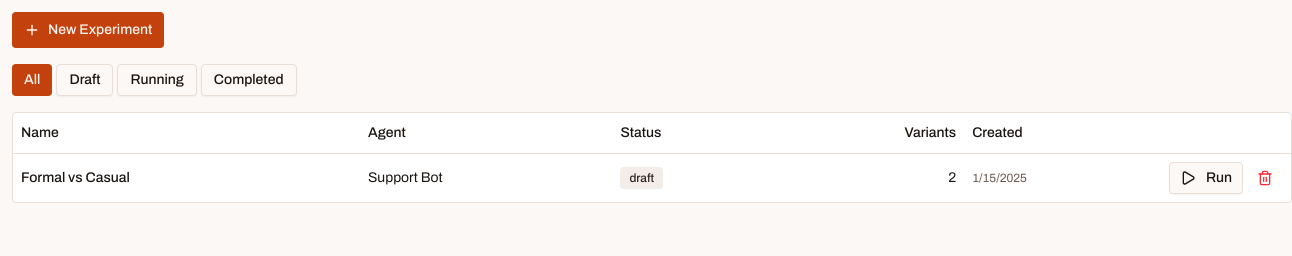
Test: ExperimentsList › Run action › shows error message when run fails with generic error
This screenshot has width=1292, height=256.
Step 1. Click the button "Run" → click(1206, 178), box [1169,162,1243,194]
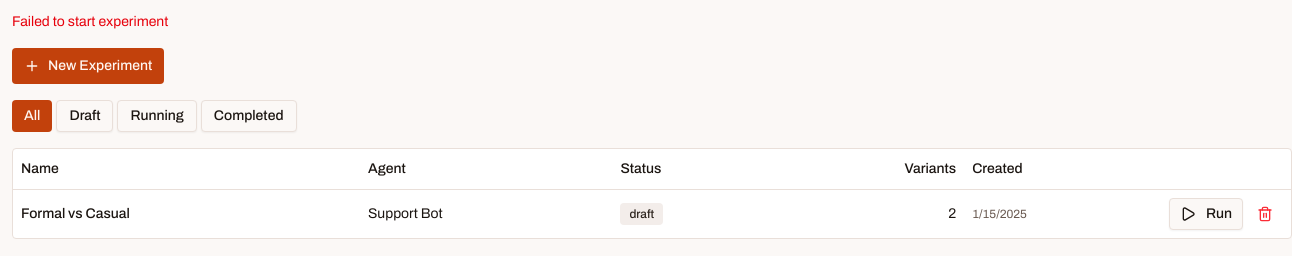
Check: the text "Failed to start experiment" is shown, box [12,14,168,29]
